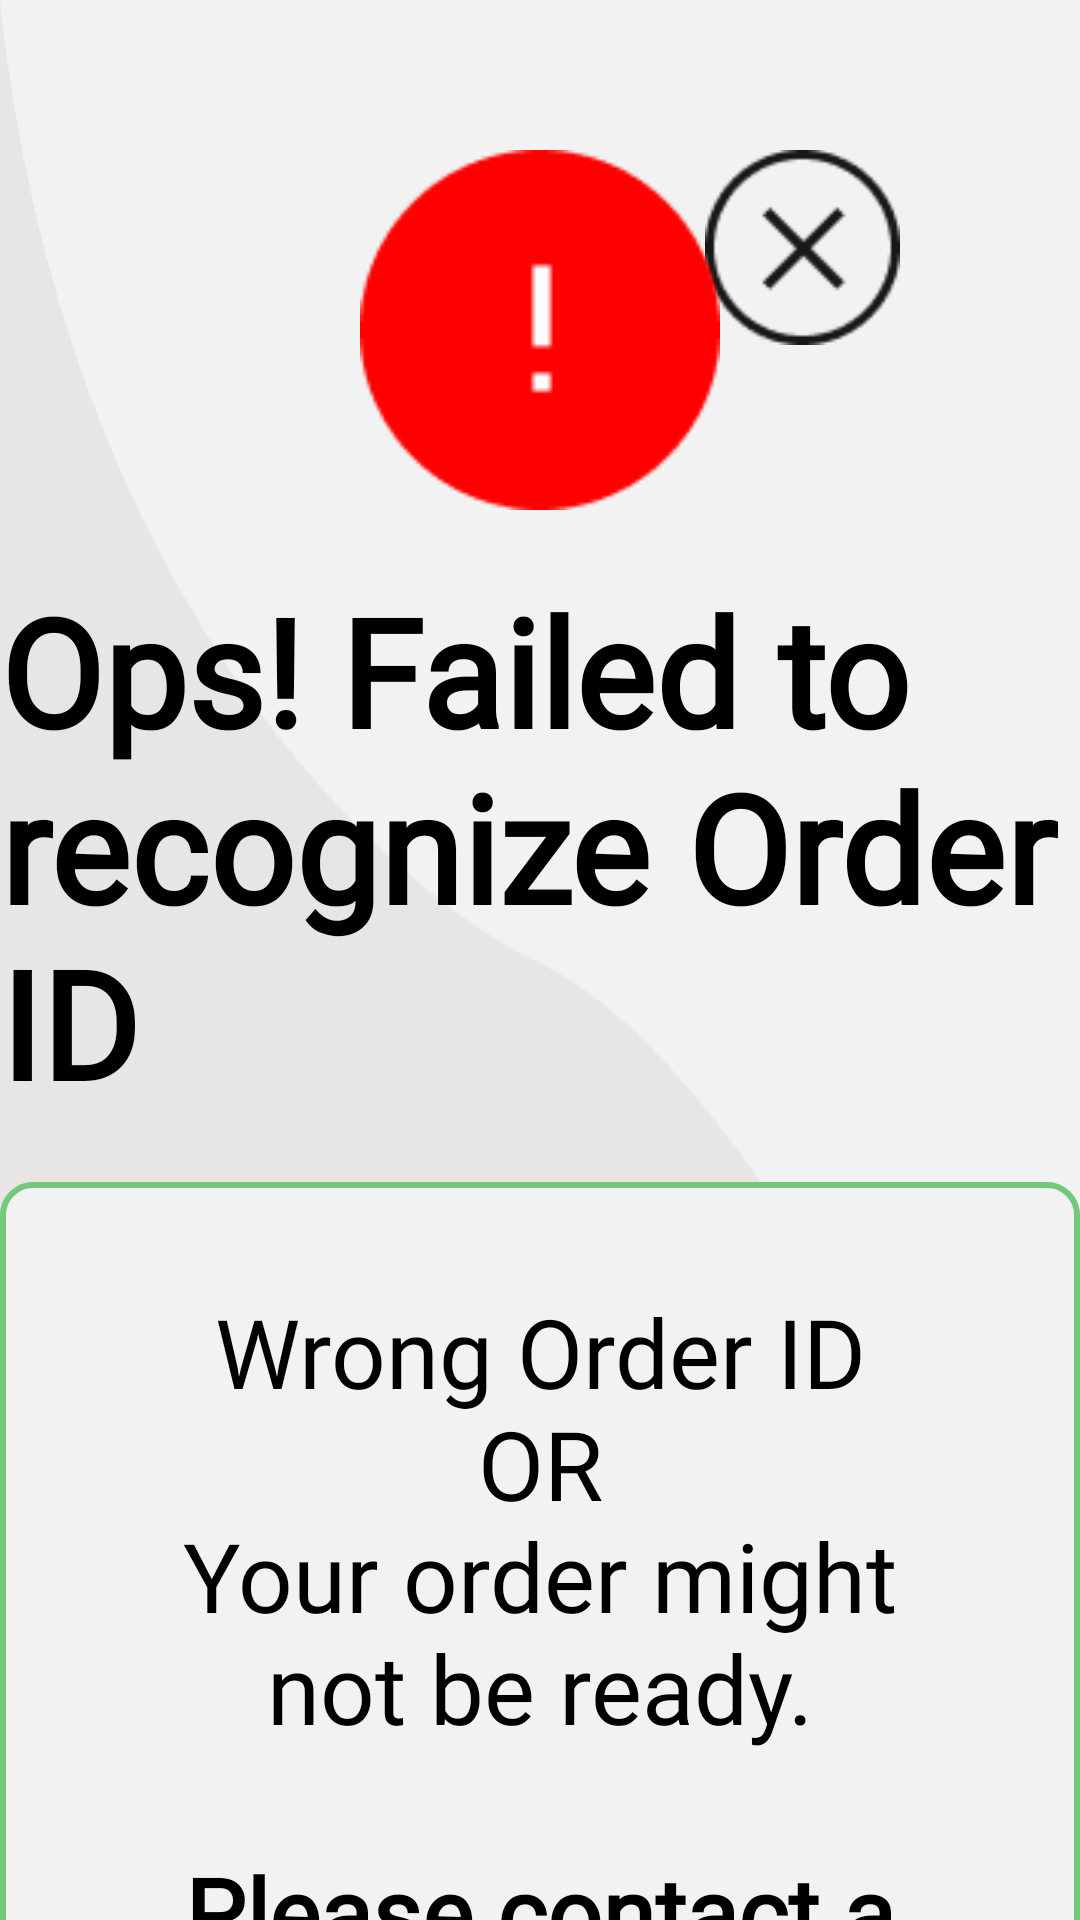

Where icons sit on this 1080×1920 app screen, as (x1, y1, x2, y2):
pickup error: (360, 150, 720, 510)
